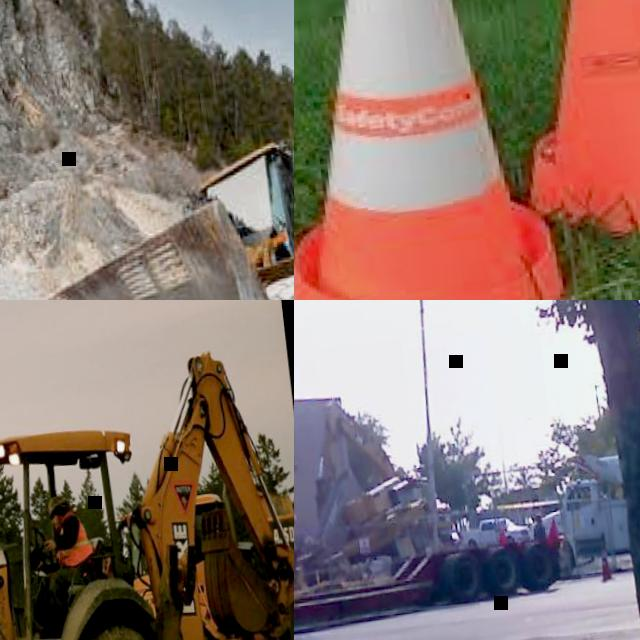Hardhat: (43, 493, 66, 514)
NO-Hardhat: (533, 513, 540, 521)
NO-Mask: (51, 516, 63, 531)
Person: (23, 489, 101, 640), (530, 513, 546, 545)
Safety Cone: (294, 0, 573, 300), (489, 0, 640, 243), (599, 552, 613, 583), (548, 518, 559, 543), (497, 523, 508, 547)
Safety Vest: (49, 509, 93, 568)
vehicle: (0, 344, 294, 640), (0, 131, 294, 300), (304, 386, 460, 575), (118, 476, 294, 640), (531, 448, 640, 574), (458, 514, 530, 553)
